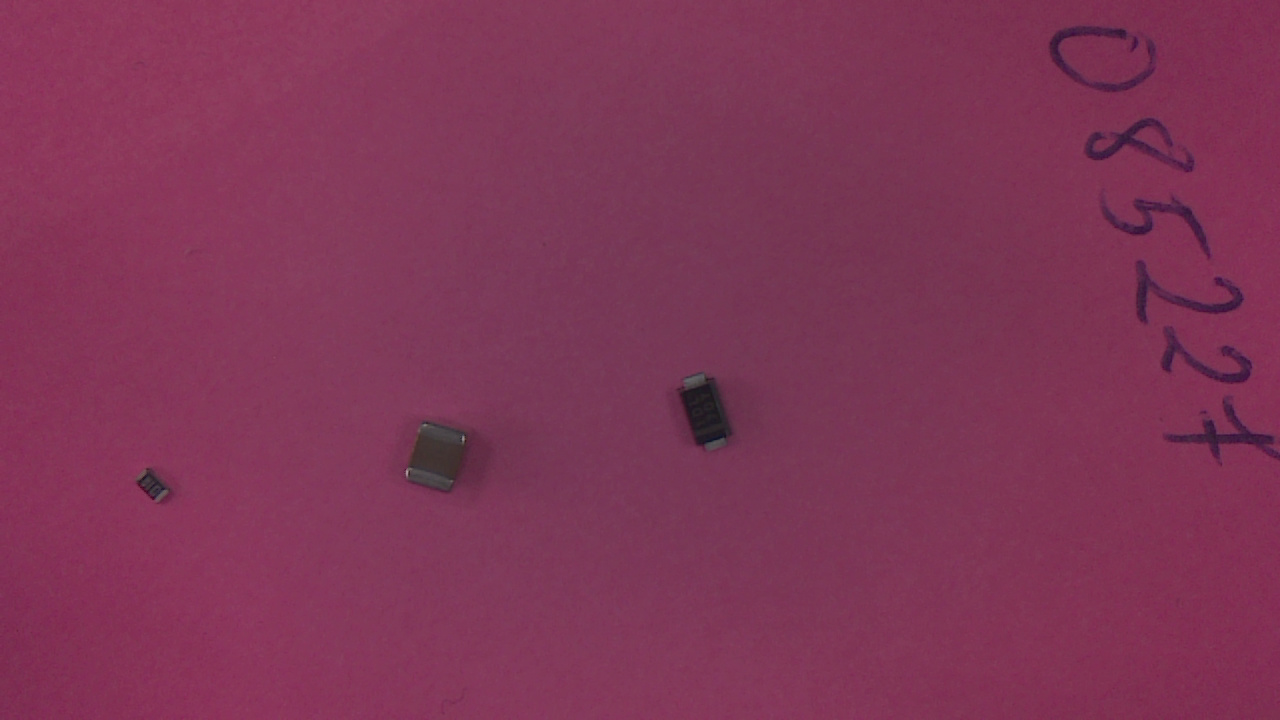Condensator: (403, 426, 472, 498)
Diode: (677, 375, 744, 461)
Resistor: (140, 470, 172, 511)
